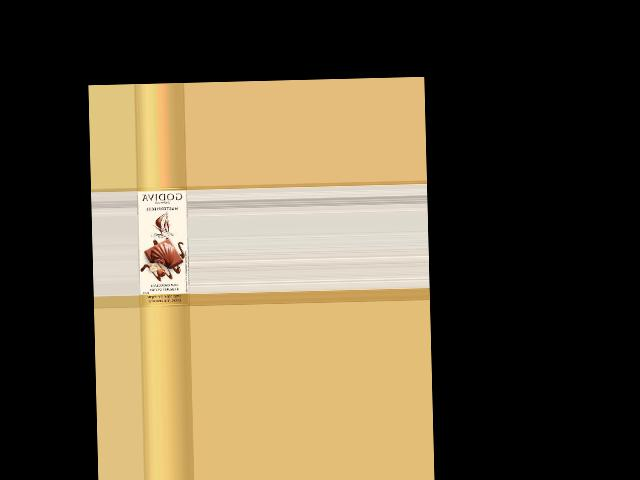chocolate: (136, 186, 189, 306)
